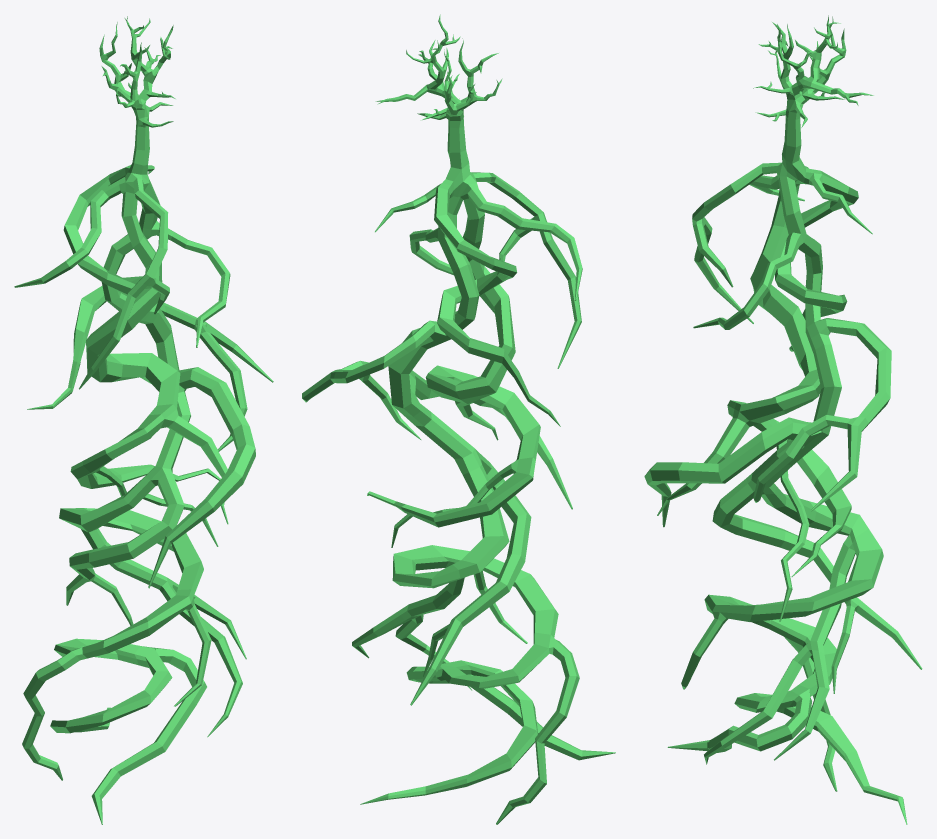
Rendered from Projekt_1.fbx.
The picture shows the model from 3 angles, left to right: view 1: azimuth 30°, elevation 25°; view 2: azimuth 150°, elevation 25°; view 3: azimuth 270°, elevation 25°; orthographic projection. The views are drawn at different scales.
Parts seen in each view (by area): view 1: Tree.003; view 2: Tree.003; view 3: Tree.003.
Boxes of the visible parts, x1,y1,x2,y2 form: Tree.003: [14, 16, 273, 824]; Tree.003: [302, 14, 615, 824]; Tree.003: [644, 15, 922, 824].
Bounding box in the file's own units: 3132 × 8609 × 2672.
